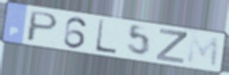5: (128, 23, 153, 60)
6: (62, 16, 88, 50)
L: (93, 18, 119, 56)
M: (185, 32, 221, 69)
P: (24, 10, 61, 44)
Z: (154, 28, 189, 65)
